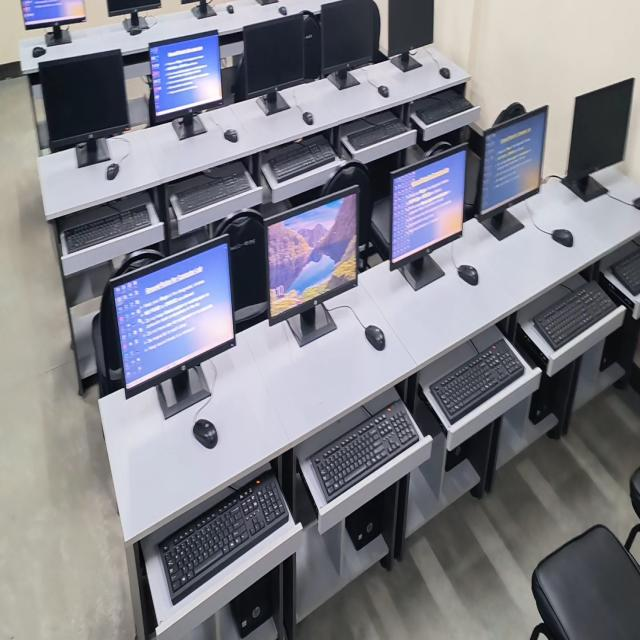Chair: (530, 526, 640, 639), (216, 209, 269, 332), (99, 281, 124, 393), (371, 196, 391, 254), (464, 149, 480, 218), (113, 261, 136, 278)
Cpu: (529, 356, 581, 439), (230, 574, 273, 638), (345, 493, 384, 551), (516, 341, 539, 361)
Keyboard: (159, 471, 288, 603), (308, 400, 419, 503), (430, 339, 524, 424), (61, 203, 151, 254), (340, 111, 416, 164), (171, 171, 251, 219), (410, 90, 480, 141), (266, 139, 336, 183), (610, 249, 640, 295)
Monitor: (111, 241, 234, 398), (265, 184, 362, 324), (390, 146, 467, 269), (39, 49, 130, 151), (476, 106, 548, 228), (566, 79, 634, 184), (150, 30, 221, 119), (236, 15, 304, 101), (320, 0, 381, 76), (388, 0, 434, 56), (21, 0, 86, 30), (107, 0, 161, 17)
Mouse: (193, 419, 218, 448), (365, 325, 385, 350), (458, 265, 478, 285), (552, 229, 573, 247), (107, 163, 119, 180), (224, 129, 237, 142), (32, 46, 46, 57), (377, 86, 389, 98), (303, 111, 313, 125), (439, 67, 450, 79), (633, 197, 640, 209), (227, 4, 234, 13), (279, 7, 287, 14)
